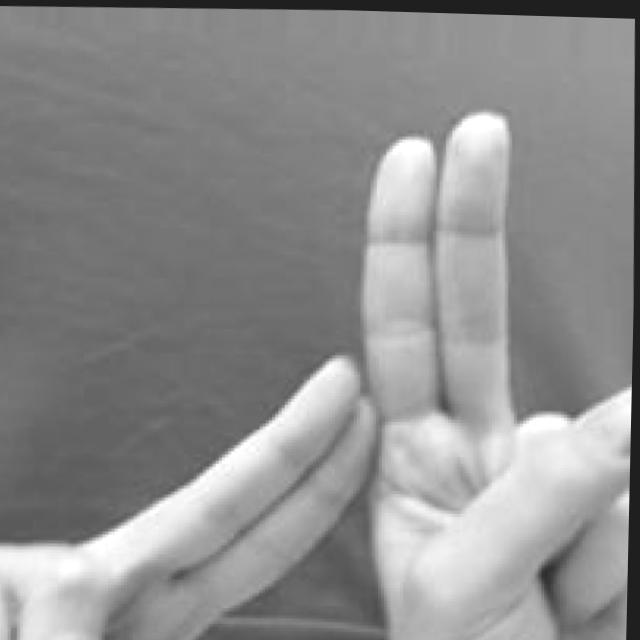K: (0, 88, 638, 640)
